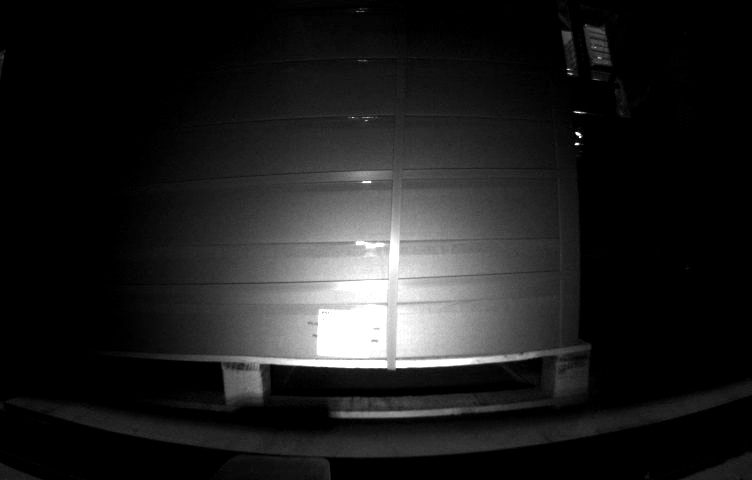True Barcode: (318, 309, 369, 356)
